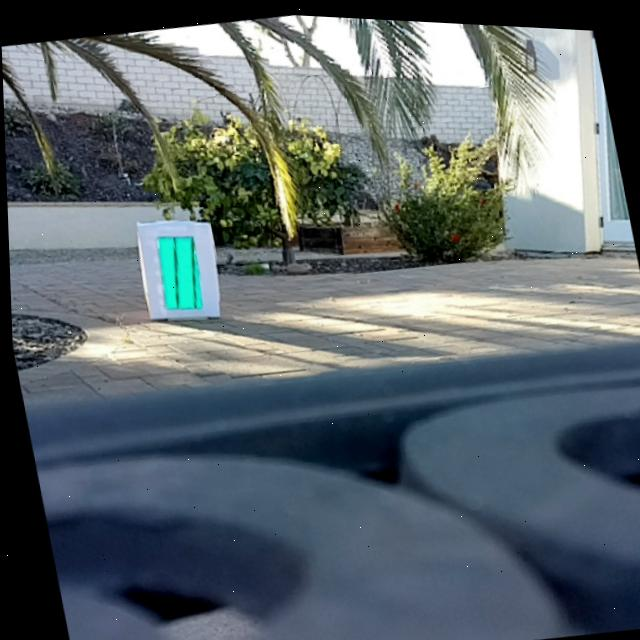led: (150, 228, 206, 314)
